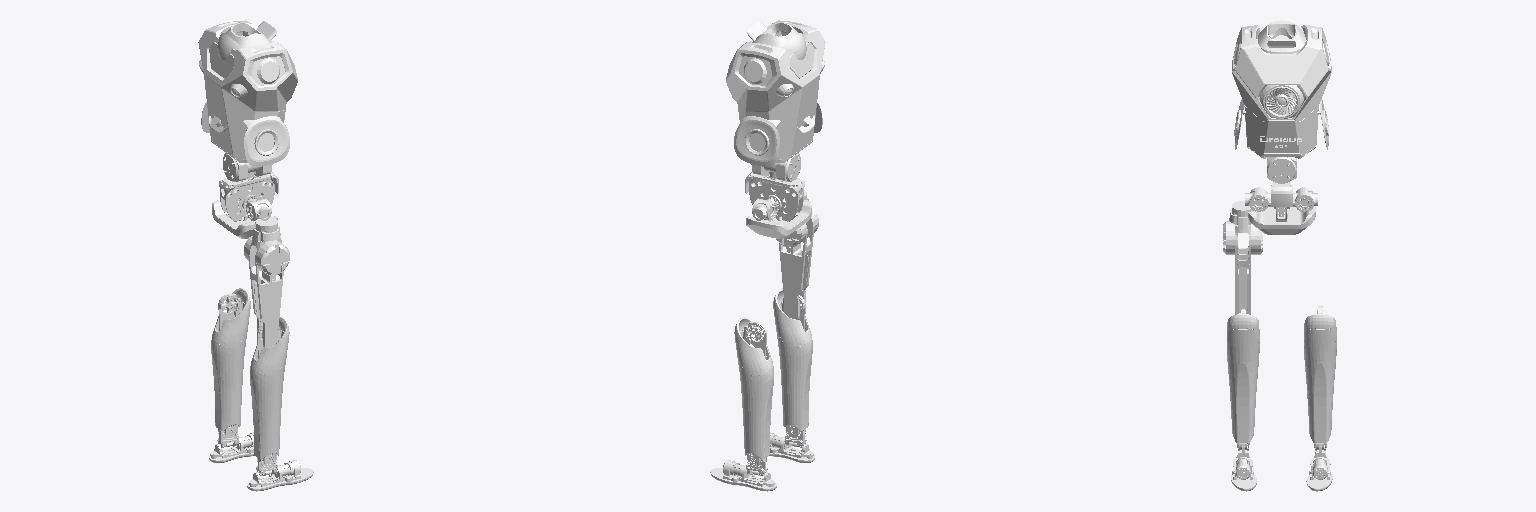
--- What the picture shows (computed from the rendered views, not written in the file) ---
3 views of the same robot in one strip: view 1: azimuth 30°, elevation 25°; view 2: azimuth 150°, elevation 25°; view 3: azimuth 270°, elevation 25° (orthographic).
Robot: X3 — 16 links, 15 joints (14 revolute, 1 fixed); root link pelvis_link; default pose: every joint at zero.
Visible links, largest first — view 1: waist_roll_link, L_knee_pitch_link, R_knee_pitch_link, R_hip_yaw_link, torso_link, pelvis_link, R_ankle_roll_link, L_ankle_roll_link; view 2: waist_roll_link, L_knee_pitch_link, torso_link, R_knee_pitch_link, R_hip_yaw_link, pelvis_link, L_ankle_roll_link, R_ankle_roll_link; view 3: waist_roll_link, L_knee_pitch_link, R_knee_pitch_link, R_hip_yaw_link, torso_link, L_ankle_roll_link, pelvis_link, R_ankle_roll_link.
Link boxes in pixels (x1,y1,x2,y2): waist_roll_link: (198,20,297,181); L_knee_pitch_link: (211,288,250,437); R_knee_pitch_link: (250,317,289,465); R_hip_yaw_link: (244,217,289,348); torso_link: (201,21,289,238); pelvis_link: (219,172,278,221); R_ankle_roll_link: (247,460,313,491); L_ankle_roll_link: (209,432,254,462); waist_roll_link: (726,20,825,181); L_knee_pitch_link: (734,317,773,465); torso_link: (734,21,822,238); R_knee_pitch_link: (773,288,812,437); R_hip_yaw_link: (776,190,818,319); pelvis_link: (745,172,804,221); L_ankle_roll_link: (710,460,776,491); R_ankle_roll_link: (769,432,814,462); waist_roll_link: (1232,24,1331,183); L_knee_pitch_link: (1304,306,1336,447); R_knee_pitch_link: (1227,309,1259,447); R_hip_yaw_link: (1223,201,1262,314); torso_link: (1234,20,1328,234); L_ankle_roll_link: (1306,456,1332,491); pelvis_link: (1271,181,1292,221); R_ankle_roll_link: (1231,455,1256,491).
Bounding box of the posed robot: 0.2938 × 0.3549 × 1.52 m (x, y, z).
15 mesh visuals loaded from 16 distinct referenced files (15 binary STL); not drawn: 1 (reference not matched to a file when rendering).

The robot description file, URDF, robot "X3":
<?xml version="1.0" encoding="utf-8"?>
<!-- This URDF was automatically created by SolidWorks to URDF Exporter! Originally created by Stephen Brawner ([email redacted]) 
     Commit Version: 1.6.0-4-g7f85cfe  Build Version: 1.6.7995.38578
     For more information, please see http://wiki.ros.org/sw_urdf_exporter -->
<robot name="X3">

  <mujoco>
    <compiler meshdir="./meshes" discardvisual="false" />
  </mujoco>

<!--  <link name="world"></link>-->
<!--  <joint name="pelvis_link" type="floating">-->
<!--    <parent link="world" />-->
<!--    <child link="pelvis_link" />-->
<!--  </joint>-->

  <link name="pelvis_link">
    <inertial>
      <origin xyz="0.00109416 -0.00000107 0.07487269" rpy="0 0 0" />
      <mass value="2.4" />
      <inertia ixx="0.00976418" ixy="-0.00000142" ixz="0.00008830" iyy="0.01387419" iyz="-0.00000011" izz="0.01133333" />
    </inertial>
    <visual>
      <origin xyz="0 0 0" rpy="0 0 0" />
      <geometry>
        <mesh filename="meshes/pelvis_link.STL" />
      </geometry>
      <material name="">
        <color rgba="1 1 1 1" />
      </material>
    </visual>
    <collision>
      <origin xyz="0 0 0" rpy="0 0 0" />
      <geometry>
        <mesh filename="meshes/pelvis_link.STL" />
      </geometry>
    </collision>
  </link>
  <link name="L_hip_pitch_link">
    <inertial>
      <origin xyz="0.00016094 -0.03273290 0" rpy="0 0 0" />
      <mass value="0.35" />
      <inertia ixx="0.00019710" ixy="0.00000155" ixz="0.00000000" iyy="0.00020669" iyz="0.00000000" izz="0.00019524" />
    </inertial>
    <!-- <inertial>
      <origin xyz="0.00017084 0.03447827 0.00000000" rpy="0 0 0" />
      <mass value="0.35" />
      <inertia ixx="0.00013064" ixy="-0.00000125" ixz="0.00000000" iyy="0.00013663" iyz="0.0000000" izz="0.00012375" />
    </inertial> -->
    <visual>
      <origin xyz="0 0 0" rpy="0 0 0" />
      <geometry>
        <mesh filename="meshes/L_hip_pitch_link.STL" />
      </geometry>
      <material name="">
        <color rgba="1 1 1 0.3" />
      </material>
    </visual>
<!--    <collision>-->
<!--      <origin xyz="0 0 0" rpy="0 0 0" />-->
<!--      <geometry>-->
<!--        <mesh filename="meshes/L_hip_pitch_link.STL" />-->
<!--      </geometry>-->
<!--    </collision>-->
  </link>
  <joint name="L_hip_pitch" type="revolute">
    <origin xyz="0 0.0310000000000002 0.0524750000000002" rpy="0 0 0" />
    <parent link="pelvis_link" />
    <child link="L_hip_pitch_link" />
    <axis xyz="0 -1 0" />
    <limit lower="-0.8727" upper="1.7453" effort="72" velocity="117.5" />
  </joint>
  <link name="L_hip_roll_link">
    <inertial>
      <origin xyz="-0.00005984 0.02187380 -0.01524731" rpy="0 0 0" />
      <mass value="3.2" />
      <inertia ixx="0.01134266" ixy="0.00000002" ixz="-0.00000053" iyy="0.01319216" iyz="-0.00106488" izz="0.01289784" />
    </inertial>
    <!-- <inertial>
      <origin xyz="-0.00002623 0.01031524 -0.00798319" rpy="0 0 0" />
      <mass value="3.2" />
      <inertia ixx="0.00546959" ixy="-0.00000076" ixz="0.00000118" iyy="0.00856984" iyz="-0.00068699" izz="0.00864802" />
    </inertial> -->
    <visual>
      <origin xyz="0 0 0" rpy="0 0 0" />
      <geometry>
        <mesh filename="meshes/L_hip_roll_link.STL" />
      </geometry>
      <material name="">
        <color rgba="1 1 1 0.3" />
      </material>
    </visual>
<!--    <collision>-->
<!--      <origin xyz="0 0 0" rpy="0 0 0" />-->
<!--      <geometry>-->
<!--        <mesh filename="meshes/L_hip_roll_link.STL" />-->
<!--      </geometry>-->
<!--    </collision>-->
  </link>
  <joint name="L_hip_roll" type="revolute">
    <origin xyz="0 0.04 0" rpy="0 0 0" />
    <parent link="L_hip_pitch_link" />
    <child link="L_hip_roll_link" />
    <axis xyz="1 0 0" />
    <limit lower="-0.1309" upper="1.11" effort="36" velocity="235" />
  </joint>
  <link name="L_hip_yaw_link">
    <inertial>
      <origin xyz="0.00631653 -0.00009549 -0.194109380" rpy="0 0 0" />
      <mass value="1.7" />
      <inertia ixx="0.01812833" ixy="0.00000394" ixz="-0.00119475" iyy="0.01848437" iyz="-0.00002187" izz="0.00451549" />
    </inertial>
    <!-- <inertial>
      <origin xyz="0.00078350 0.00901955 -0.13406405" rpy="0 0 0" />
      <mass value="1.7" />
      <inertia ixx="0.15106253" ixy="-0.00005461" ixz="-0.00051129" iyy="0.14988653" iyz="0.01183643" izz="0.01608968" />
    </inertial> -->
    <visual>
      <origin xyz="0 0 0" rpy="0 0 0" />
      <geometry>
        <mesh filename="meshes/L_hip_yaw_link.STL" />
      </geometry>
      <material name="">
        <color rgba="1 1 1 0.3" />
      </material>
    </visual>
    <collision>
      <origin xyz="0 0 0" rpy="0 0 0" />
      <geometry>
        <mesh filename="meshes/L_hip_yaw_link.STL" />
      </geometry>
    </collision>
  </link>
  <joint name="L_hip_yaw" type="revolute">
    <origin xyz="0 0.049 -0.043" rpy="0 0 0" />
    <parent link="L_hip_roll_link" />
    <child link="L_hip_yaw_link" />
    <axis xyz="0 0 1" />
    <limit lower="-0.7854" upper="0.7854" effort="24" velocity="37" />
  </joint>
  <link name="L_knee_pitch_link">
    <inertial>
      <origin xyz="0.00681540 0.00002147 -0.18284680" rpy="0 0 0" />
      <mass value="1.2" />
      <inertia ixx="0.01455513" ixy="-0.00000021" ixz="0.00105053" iyy="0.01462788" iyz="-0.00000523" izz="0.00181891" />
    </inertial>
    <!-- <inertial>
      <origin xyz="0.00542764 0 -0.17994317" rpy="0 0 0" />
      <mass value="1.2" />
      <inertia ixx="0.10387623" ixy="0.00000003" ixz="0.00479679" iyy="0.10500164" iyz="-0.00001009" izz="0.00696386" />
    </inertial> -->
    <visual>
      <origin xyz="0 0 0" rpy="0 0 0" />
      <geometry>
        <mesh filename="meshes/L_knee_pitch_link.STL" />
      </geometry>
      <material name="">
        <color rgba="1 1 1 0.3" />
      </material>
    </visual>
    <collision>
      <origin xyz="0 0 0" rpy="0 0 0" />
      <geometry>
        <mesh filename="meshes/L_knee_pitch_link.STL" />
      </geometry>
    </collision>
  </link>
  <joint name="L_knee_pitch" type="revolute">
    <origin xyz="0 0 -0.357" rpy="0 0 0" />
    <parent link="L_hip_yaw_link" />
    <child link="L_knee_pitch_link" />
    <axis xyz="0 -1 0" />
    <limit lower="-2.3562" upper="0" effort="93.6" velocity="90" />
  </joint>
  <link name="L_ankle_pitch_link">
    <inertial>
      <origin xyz="-0.00032306 -0.00121184 -0.02213432" rpy="0 0 0" />
      <mass value="0.2" />
      <inertia ixx="0.00011212" ixy="0.00000001" ixz="0.00000110" iyy="0.00016402" iyz="-0.00000380" izz="0.00008321" />
    </inertial>
    <!-- <inertial>
      <origin xyz="-0.00099005 0.00104741 -0.02529408" rpy="0 0 0" />
      <mass value="0.2" />
      <inertia ixx="0.00011552" ixy="0.00000010" ixz="0.00000372" iyy="0.00016201" iyz="0.000000405" izz="0.00007952" />
    </inertial> -->
    <visual>
      <origin xyz="0 0 0" rpy="0 0 0" />
      <geometry>
        <mesh filename="meshes/L_ankle_pitch_link.STL" />
      </geometry>
      <material name="">
        <color rgba="1 1 1 0.3" />
      </material>
    </visual>
    <collision>
      <origin xyz="0 0 0" rpy="0 0 0" />
      <geometry>
        <mesh filename="meshes/L_ankle_pitch_link.STL" />
      </geometry>
    </collision>
  </link>
  <joint name="L_ankle_pitch" type="revolute">
    <origin xyz="0 0 -0.43" rpy="0 0 0" />
    <parent link="L_knee_pitch_link" />
    <child link="L_ankle_pitch_link" />
    <axis xyz="0 -1 0" />
    <limit lower="-1.309" upper="1.309" effort="64.8" velocity="130" />
  </joint>
  <link name="L_ankle_roll_link">
    <inertial>
      <origin xyz="0.0511098207690309 2.27969964033264E-05 -0.029278150161492" rpy="0 0 0" />
      <mass value="0.6" />
      <inertia ixx="0.000357089092153518" ixy="-1.47307290241483E-08" ixz="2.90073852989151E-07" iyy="0.0032819389901749" iyz="-2.24180302072437E-07" izz="0.00355222542672962" />
    </inertial>
    <!-- <inertial>
      <origin xyz="0.04449898 -0.00002507 -0.00536528" rpy="0 0 0" />
      <mass value="0.6" />
      <inertia ixx="0.00079075" ixy="-0.00003439" ixz="-0.00019963" iyy="0.00331588" iyz="0.00002773" izz="0.00300999" />
    </inertial> -->
    <visual>
      <origin xyz="0 0 0" rpy="0 0 0" />
      <geometry>
        <mesh filename="meshes/L_ankle_roll_link.STL" />
      </geometry>
      <material name="">
        <color rgba="1 1 1 1" />
      </material>
    </visual>
<!--    <collision>-->
<!--      <origin xyz="0 0 0" rpy="0 0 0" />-->
<!--      <geometry>-->
<!--        <mesh filename="meshes/L_ankle_roll_link.STL" />-->
<!--      </geometry>-->
<!--    </collision>-->
    <collision>
      <origin xyz="-0.09 -0.0 -0.0385" rpy="0 0 0"/>
      <geometry>
        <sphere radius="0.005"/>
      </geometry>
    </collision>
    <collision>
      <origin xyz="0.18 -0.0 -0.0385" rpy="0 0 0"/>
      <geometry>
        <sphere radius="0.005"/>
      </geometry>
    </collision>
    <collision>
      <origin xyz="0.09 -0.045 -0.0385" rpy="0 0 0"/>
      <geometry>
        <sphere radius="0.005"/>
      </geometry>
    </collision>
    <collision>
      <origin xyz="0.09 0.045 -0.0385" rpy="0 0 0"/>
      <geometry>
        <sphere radius="0.005"/>
      </geometry>
    </collision>
    <collision>
      <origin xyz="0.0 0.033 -0.0385" rpy="0 0 0"/>
      <geometry>
        <sphere radius="0.005"/>
      </geometry>
    </collision>
    <collision>
      <origin xyz="0.0 -0.033 -0.0385" rpy="0 0 0"/>
      <geometry>
        <sphere radius="0.005"/>
      </geometry>
    </collision>
  </link>
  <joint name="L_ankle_roll" type="revolute">
    <origin xyz="0 0 -0.058" rpy="0 0 0" />
    <parent link="L_ankle_pitch_link" />
    <child link="L_ankle_roll_link" />
    <axis xyz="1 0 0" />
    <limit lower="-0.5236" upper="0.5236" effort="7.7" velocity="20" />
  </joint>
  <link name="R_hip_pitch_link">
    <inertial>
      <origin xyz="0.00016094 -0.03273290 0" rpy="0 0 0" />
      <mass value="0.35" />
      <inertia ixx="0.00019710" ixy="0.00000155" ixz="0.00000000" iyy="0.00020669" iyz="0.00000000" izz="0.00019524" />
    </inertial>
    <visual>
      <origin xyz="0 0 0" rpy="0 0 0" />
      <geometry>
        <mesh filename="meshes/R_hip_pitch_link.STL" />
      </geometry>
      <material name="">
        <color rgba="1 1 1 1" />
      </material>
    </visual>
<!--    <collision>-->
<!--      <origin xyz="0 0 0" rpy="0 0 0" />-->
<!--      <geometry>-->
<!--        <mesh filename="meshes/R_hip_pitch_link.STL" />-->
<!--      </geometry>-->
<!--    </collision>-->
  </link>
  <joint name="R_hip_pitch" type="revolute">
    <origin xyz="0 -0.031 0.052475" rpy="0 0 0" />
    <parent link="pelvis_link" />
    <child link="R_hip_pitch_link" />
    <axis xyz="0 -1 0" />
    <limit lower="-0.8727" upper="1.7453" effort="72" velocity="117.5" />
  </joint>
  <link name="R_hip_roll_link">
    <inertial>
      <origin xyz="-0.00005984 -0.02187380 -0.01524731" rpy="0 0 0" />
      <mass value="3.2" />
      <inertia ixx="0.01134266" ixy="-0.00000002" ixz="0.00000053" iyy="0.01319216" iyz="0.00106488" izz="0.01289784" />
    </inertial>
    <visual>
      <origin xyz="0 0 0" rpy="0 0 0" />
      <geometry>
        <mesh filename="meshes/R_hip_roll_link.STL" />
      </geometry>
      <material name="">
        <color rgba="1 1 1 0.3" />
      </material>
    </visual>
<!--    <collision>-->
<!--      <origin xyz="0 0 0" rpy="0 0 0" />-->
<!--      <geometry>-->
<!--        <mesh filename="meshes/R_hip_roll_link.STL" />-->
<!--      </geometry>-->
<!--    </collision>-->
  </link>
  <joint name="R_hip_roll" type="revolute">
    <origin xyz="0 -0.04 0" rpy="0 0 0" />
    <parent link="R_hip_pitch_link" />
    <child link="R_hip_roll_link" />
    <axis xyz="-1 0 0" />
    <limit lower="-0.1309" upper="1.11" effort="36" velocity="235" />
  </joint>
  <link name="R_hip_yaw_link">
    <inertial>
      <origin xyz="0.00631653 -0.00009549 -0.194109380" rpy="0 0 0" />
      <mass value="1.7" />
      <inertia ixx="0.01812833" ixy="0.00000394" ixz="-0.00119475" iyy="0.01848437" iyz="-0.00002187" izz="0.00451549" />
    </inertial>
    <visual>
      <origin xyz="0 0 0" rpy="0 0 0" />
      <geometry>
        <mesh filename="meshes/R_hip_yaw_link.STL" />
      </geometry>
      <material name="">
        <color rgba="1 1 1 0.3" />
      </material>
    </visual>
    <collision>
      <origin xyz="0 0 0" rpy="0 0 0" />
      <geometry>
        <mesh filename="meshes/R_hip_yaw_link.STL" />
      </geometry>
    </collision>
  </link>
  <joint name="R_hip_yaw" type="revolute">
    <origin xyz="0 -0.049 -0.043" rpy="0 0 0" />
    <parent link="R_hip_roll_link" />
    <child link="R_hip_yaw_link" />
    <axis xyz="0 0 -1" />
    <limit lower="-0.7854" upper="0.7854" effort="24" velocity="37" />
  </joint>
  <link name="R_knee_pitch_link">
    <inertial>
      <origin xyz="0.00681540 0.00002147 -0.18284680" rpy="0 0 0" />
      <mass value="1.2" />
      <inertia ixx="0.01455513" ixy="-0.00000021" ixz="0.00105053" iyy="0.01462788" iyz="-0.00000523" izz="0.00181891" />
    </inertial>
    <visual>
      <origin xyz="0 0 0" rpy="0 0 0" />
      <geometry>
        <mesh filename="meshes/R_knee_pitch_link.STL" />
      </geometry>
      <material name="">
        <color rgba="1 1 1 0.3" />
      </material>
    </visual>
    <collision>
      <origin xyz="0 0 0" rpy="0 0 0" />
      <geometry>
        <mesh filename="meshes/R_knee_pitch_link.STL" />
      </geometry>
    </collision>
  </link>
  <joint name="R_knee_pitch" type="revolute">
    <origin xyz="0 0 -0.357" rpy="0 0 0" />
    <parent link="R_hip_yaw_link" />
    <child link="R_knee_pitch_link" />
    <axis xyz="0 -1 0" />
    <limit lower="-2.3562" upper="0" effort="93.6" velocity="90" />
  </joint>
  <link name="R_ankle_pitch_link">
     <inertial>
      <origin xyz="-0.00032306 -0.00121184 -0.02213432" rpy="0 0 0" />
      <mass value="0.2" />
      <inertia ixx="0.00011212" ixy="0.00000001" ixz="0.00000110" iyy="0.00016402" iyz="-0.00000380" izz="0.00008321" />
    </inertial>
    <visual>
      <origin xyz="0 0 0" rpy="0 0 0" />
      <geometry>
        <mesh filename="meshes/R_ankle_pitch_link.STL" />
      </geometry>
      <material name="">
        <color rgba="1 1 1 0.3" />
      </material>
    </visual>
    <collision>
      <origin xyz="0 0 0" rpy="0 0 0" />
      <geometry>
        <mesh filename="meshes/R_ankle_pitch_link.STL" />
      </geometry>
    </collision>
  </link>
  <joint name="R_ankle_pitch" type="revolute">
    <origin xyz="0 0 -0.43" rpy="0 0 0" />
    <parent link="R_knee_pitch_link" />
    <child link="R_ankle_pitch_link" />
    <axis xyz="0 -1 0" />
    <limit lower="-1.309" upper="1.309" effort="64.8" velocity="130" />
  </joint>
  <link name="R_ankle_roll_link">
    <inertial>
      <origin xyz="0.0511098207690309 2.27969964033264E-05 -0.029278150161492" rpy="0 0 0" />
      <mass value="0.6" />
      <inertia ixx="0.000357089092153518" ixy="-1.47307290241483E-08" ixz="2.90073852989151E-07" iyy="0.0032819389901749" iyz="-2.24180302072437E-07" izz="0.00355222542672962" />
    </inertial>
    <!-- <inertial>
      <origin xyz="0.056799992621983 0.000901372325426295 -0.0207274451353632" rpy="0 0 0" />
      <mass value="0.6" />
      <inertia ixx="0.00031726" ixy="0.00004528" ixz="0.00005446" iyy="0.00199702" iyz="-0.00000729" izz="0.00200715" />
    </inertial> -->
    <visual>
      <origin xyz="0 0 0" rpy="0 0 0" />
      <geometry>
        <mesh filename="meshes/R_ankle_roll_link.STL" />
      </geometry>
      <material name="">
        <color rgba="1 1 1 1" />
      </material>
    </visual>
<!--    <collision>-->
<!--      <origin xyz="0 0 0" rpy="0 0 0" />-->
<!--      <geometry>-->
<!--        <mesh filename="meshes/R_ankle_roll_link.STL" />-->
<!--      </geometry>-->
<!--    </collision>-->
    <collision>
      <origin xyz="-0.09 -0.0 -0.0385" rpy="0 0 0"/>
      <geometry>
        <sphere radius="0.005"/>
      </geometry>
    </collision>
    <collision>
      <origin xyz="0.18 0.0 -0.0385" rpy="0 0 0"/>
      <geometry>
        <sphere radius="0.005"/>
      </geometry>
    </collision>
    <collision>
      <origin xyz="0.09 -0.045 -0.0385" rpy="0 0 0"/>
      <geometry>
        <sphere radius="0.005"/>
      </geometry>
    </collision>
    <collision>
      <origin xyz="0.09 0.045 -0.0385" rpy="0 0 0"/>
      <geometry>
        <sphere radius="0.005"/>
      </geometry>
    </collision>
    <collision>
      <origin xyz="0.0 0.033 -0.0385" rpy="0 0 0"/>
      <geometry>
        <sphere radius="0.005"/>
      </geometry>
    </collision>
    <collision>
      <origin xyz="0.0 -0.033 -0.0385" rpy="0 0 0"/>
      <geometry>
        <sphere radius="0.005"/>
      </geometry>
    </collision>
  </link>
  <joint name="R_ankle_roll" type="revolute">
    <origin xyz="0 0 -0.058" rpy="0 0 0" />
    <parent link="R_ankle_pitch_link" />
    <child link="R_ankle_roll_link" />
    <axis xyz="-1 0 0" />
    <limit lower="-0.5236" upper="0.5236" effort="7.7" velocity="20" />
  </joint>
  <link name="waist_yaw_link">
    <inertial>
      <origin xyz="0.00017084 0 0.03447827" rpy="0 0 0" />
      <mass value="0.3" />
      <inertia ixx="0.00013064" ixy="0.00000000" ixz="-0.00000125" iyy="0.00012375" iyz="0.000000000" izz="0.00013663" />
    </inertial>
    <visual>
      <origin xyz="0 0 0" rpy="0 0 0" />
      <geometry>
        <mesh filename="meshes/waist_yaw_link.STL" />
      </geometry>
      <material name="">
        <color rgba="1 1 1 1" />
      </material>
    </visual>
<!--    <collision>-->
<!--      <origin xyz="0 0 0" rpy="0 0 0" />-->
<!--      <geometry>-->
<!--        <mesh filename="meshes/waist_yaw_link.STL" />-->
<!--      </geometry>-->
<!--    </collision>-->
  </link>
  <joint name="waist_yaw" type="revolute">
    <origin xyz="0 0 0.14218" rpy="0 0 0" />
    <parent link="pelvis_link" />
    <child link="waist_yaw_link" />
    <axis xyz="0 0 1" />
    <limit lower="-0.7854" upper="0.7854" effort="72" velocity="117.5" />
  </joint>
  <link name="waist_roll_link">
    <inertial>
      <origin xyz="-0.00000186 0.00276070 0.00766477" rpy="0 0 0" />
      <mass value="2.1" />
      <inertia ixx="0.00260675" ixy="0.00000017" ixz="0.00000114" iyy="0.00514187" iyz="0.00009842" izz="0.00583275" />
    </inertial>
    <visual>
      <origin xyz="0 0 0" rpy="0 0 0" />
      <geometry>
        <mesh filename="meshes/waist_roll_link.STL" />
      </geometry>
      <material name="">
        <color rgba="1 1 1 1" />
      </material>
    </visual>
<!--    <collision>-->
<!--      <origin xyz="0 0 0" rpy="0 0 0" />-->
<!--      <geometry>-->
<!--        <mesh filename="meshes/waist_roll_link.STL" />-->
<!--      </geometry>-->
<!--    </collision>-->
  </link>
  <joint name="waist_roll" type="revolute">
    <origin xyz="0 0 0.04" rpy="0 0 0" />
    <parent link="waist_yaw_link" />
    <child link="waist_roll_link" />
    <axis xyz="1 0 0" />
    <limit lower="-0.4363" upper="0.4363" effort="36" velocity="235" />
  </joint>
  <link name="torso_link">
    <inertial>
      <origin xyz="0.01056948 -0.00010281 0.36681369" rpy="0 0 0" />
      <mass value="13.1" />
      <inertia ixx="0.28687328" ixy="0.00002550" ixz="0.00650498" iyy="0.25189104" iyz="-0.00001861" izz="0.09666201" />
    </inertial>
    <visual>
      <origin xyz="0 0 0" rpy="0 0 0" />
      <geometry>
        <mesh filename="meshes/torso_link.STL" />
      </geometry>
      <material name="">
        <color rgba="1 1 1 1" />
      </material>
    </visual>
    <collision>
      <origin xyz="0 0 0" rpy="0 0 0" />
      <geometry>
        <mesh filename="meshes/torso_link.STL" />
      </geometry>
    </collision>
  </link>
  <joint name="torso" type="fixed">
    <origin xyz="0 0 -0.182175" rpy="0 0 0" />
    <parent link="waist_roll_link" />
    <child link="torso_link" />
    <axis xyz="0 0 0" />
  </joint>
<!--  <link name="L_shoulder_pitch_link">-->
<!--    <inertial>-->
<!--      <origin xyz="0.00155687 0.04638013 0.00185796" rpy="0 0 0" />-->
<!--      <mass value="1.7" />-->
<!--      <inertia ixx="0.00258522" ixy="0.00003469" ixz="-0.00003704" iyy="0.00213303" iyz="-0.00003577" izz="0.00256597" />-->
<!--    </inertial>-->
<!--    <visual>-->
<!--      <origin xyz="0 0 0" rpy="0 0 0" />-->
<!--      <geometry>-->
<!--        <mesh filename="meshes/L_shoulder_pitch_link.STL" />-->
<!--      </geometry>-->
<!--      <material name="">-->
<!--        <color rgba="1 1 1 1" />-->
<!--      </material>-->
<!--    </visual>-->
<!--    <collision>-->
<!--      <origin xyz="0 0 0" rpy="0 0 0" />-->
<!--      <geometry>-->
<!--        <mesh filename="meshes/L_shoulder_pitch_link.STL" />-->
<!--      </geometry>-->
<!--    </collision>-->
<!--  </link>-->
<!--  <joint name="L_shoulder_pitch" type="revolute">-->
<!--    <origin xyz="-0.00322396709669087 0.1365 0.456175000000003" rpy="0 0 0" />-->
<!--    <parent link="torso_link" />-->
<!--    <child link="L_shoulder_pitch_link" />-->
<!--    <axis xyz="0 -1 0" />-->
<!--    <limit lower="-1.5708" upper="3.1416" effort="38" velocity="30" />-->
<!--  </joint>-->
<!--  <link name="L_shoulder_roll_link">-->
<!--    <inertial>-->
<!--      <origin xyz="-0.00169980 -0.00048152 -0.06490225" rpy="0 0 0" />-->
<!--      <mass value="1.2" />-->
<!--      <inertia ixx="0.00291644" ixy="0.00000633" ixz="-0.00004795" iyy="0.00349438" iyz="-0.00000912" izz="0.00222654" />-->
<!--    </inertial>-->
<!--    <visual>-->
<!--      <origin xyz="0 0 0" rpy="0 0 0" />-->
<!--      <geometry>-->
<!--        <mesh filename="meshes/L_shoulder_roll_link.STL" />-->
<!--      </geometry>-->
<!--      <material name="">-->
<!--        <color rgba="1 1 1 1" />-->
<!--      </material>-->
<!--    </visual>-->
<!--    <collision>-->
<!--      <origin xyz="0 0 0" rpy="0 0 0" />-->
<!--      <geometry>-->
<!--        <mesh filename="meshes/L_shoulder_roll_link.STL" />-->
<!--      </geometry>-->
<!--    </collision>-->
<!--  </link>-->
<!--  <joint name="L_shoulder_roll" type="revolute">-->
<!--    <origin xyz="0 0.0605 0" rpy="0 0 0" />-->
<!--    <parent link="L_shoulder_pitch_link" />-->
<!--    <child link="L_shoulder_roll_link" />-->
<!--    <axis xyz="1 0 0" />-->
<!--    <limit lower="-0.1745" upper="1.5708" effort="38" velocity="30" />-->
<!--  </joint>-->
<!--  <link name="L_shoulder_yaw_link">-->
<!--    <inertial>-->
<!--      <origin xyz="0.00017669 -0.00115174 -0.06619070" rpy="0 0 0" />-->
<!--      <mass value="1.1" />-->
<!--      <inertia ixx="0.00157106" ixy="0.00000587" ixz="-0.00000229" iyy="0.00143525" iyz="0.00002980" izz="0.00058878" />-->
<!--    </inertial>-->
<!--    <visual>-->
<!--      <origin xyz="0 0 0" rpy="0 0 0" />-->
<!--      <geometry>-->
<!--        <mesh filename="meshes/L_shoulder_yaw_link.STL" />-->
<!--      </geometry>-->
<!--      <material name="">-->
<!--        <color rgba="1 1 1 1" />-->
<!--      </material>-->
<!--    </visual>-->
<!--    <collision>-->
<!--      <origin xyz="0 0 0" rpy="0 0 0" />-->
<!--      <geometry>-->
<!--        <mesh filename="meshes/L_shoulder_yaw_link.STL" />-->
<!--      </geometry>-->
<!--    </collision>-->
<!--  </link>-->
<!--  <joint name="L_shoulder_yaw" type="revolute">-->
<!--    <origin xyz="0.000149999998599098 0 -0.131486760581595" rpy="0 0 0" />-->
<!--    <parent link="L_shoulder_roll_link" />-->
<!--    <child link="L_shoulder_yaw_link" />-->
<!--    <axis xyz="0 0 1" />-->
<!--    <limit lower="-2.618" upper="2.618" effort="14" velocity="30" />-->
<!--  </joint>-->
<!--  <link name="L_elbow_pitch_link">-->
<!--    <inertial>-->
<!--      <origin xyz="0.00005060 0.00061689 -0.07522012" rpy="0 0 0" />-->
<!--      <mass value="0.56" />-->
<!--      <inertia ixx="0.00048950" ixy="-0.00000008" ixz="0.00000012" iyy="0.00043439" iyz="0.00002490" izz="0.00033574" />-->
<!--    </inertial>-->
<!--    <visual>-->
<!--      <origin xyz="0 0 0" rpy="0 0 0" />-->
<!--      <geometry>-->
<!--        <mesh filename="meshes/L_elbow_pitch_link.STL" />-->
<!--      </geometry>-->
<!--      <material name="">-->
<!--        <color rgba="1 1 1 1" />-->
<!--      </material>-->
<!--    </visual>-->
<!--    <collision>-->
<!--      <origin xyz="0 0 0" rpy="0 0 0" />-->
<!--      <geometry>-->
<!--        <mesh filename="meshes/L_elbow_pitch_link.STL" />-->
<!--      </geometry>-->
<!--    </collision>-->
<!--  </link>-->
<!--  <joint name="L_elbow_pitch" type="revolute">-->
<!--    <origin xyz="0 0 -0.0839999999999311" rpy="0 0 0" />-->
<!--    <parent link="L_shoulder_yaw_link" />-->
<!--    <child link="L_elbow_pitch_link" />-->
<!--    <axis xyz="0 -1 0" />-->
<!--    <limit lower="0" upper="2.4435" effort="6.8" velocity="30" />-->
<!--  </joint>-->
<!--  <link name="L_elbow_yaw_link">-->
<!--    <inertial>-->
<!--      <origin xyz="-0.00035245 0.00292780 -0.04716143" rpy="0 0 0" />-->
<!--      <mass value="0.6" />-->
<!--      <inertia ixx="0.000613115" ixy="0.00000024" ixz="0.00000720" iyy="0.00052126" iyz="-0.00002591" izz="0.00028134" />-->
<!--    </inertial>-->
<!--    <visual>-->
<!--      <origin xyz="0 0 0" rpy="0 0 0" />-->
<!--      <geometry>-->
<!--        <mesh filename="meshes/L_elbow_yaw_link.STL" />-->
<!--      </geometry>-->
<!--      <material name="">-->
<!--        <color rgba="1 1 1 1" />-->
<!--      </material>-->
<!--    </visual>-->
<!--    <collision>-->
<!--      <origin xyz="0 0 0" rpy="0 0 0" />-->
<!--      <geometry>-->
<!--        <mesh filename="meshes/L_elbow_yaw_link.STL" />-->
<!--      </geometry>-->
<!--    </collision>-->
<!--  </link>-->
<!--  <joint name="L_elbow_yaw" type="revolute">-->
<!--    <origin xyz="0 0 -0.1065" rpy="0 0 0" />-->
<!--    <parent link="L_elbow_pitch_link" />-->
<!--    <child link="L_elbow_yaw_link" />-->
<!--    <axis xyz="0 0 1" />-->
<!--    <limit lower="-2.4871" upper="2.4871" effort="6.8" velocity="30" />-->
<!--  </joint>-->
<!--  <link name="L_wrist_pitch_link">-->
<!--    <inertial>-->
<!--      <origin xyz="-0.00009697 0.00049094 -0.02740632" rpy="0 0 0" />-->
<!--      <mass value="0.32" />-->
<!--      <inertia ixx="0.00009734" ixy="0.00000013" ixz="-0.00000057" iyy="0.00011272" iyz="0.00000428" izz="0.00009965" />-->
<!--    </inertial>-->
<!--    <visual>-->
<!--      <origin xyz="0 0 0" rpy="0 0 0" />-->
<!--      <geometry>-->
<!--        <mesh filename="meshes/L_wrist_pitch_link.STL" />-->
<!--      </geometry>-->
<!--      <material name="">-->
<!--        <color rgba="1 1 1 1" />-->
<!--      </material>-->
<!--    </visual>-->
<!--    <collision>-->
<!--      <origin xyz="0 0 0" rpy="0 0 0" />-->
<!--      <geometry>-->
<!--        <mesh filename="meshes/L_wrist_pitch_link.STL" />-->
<!--      </geometry>-->
<!--    </collision>-->
<!--  </link>-->
<!--  <joint name="L_wrist_pitch" type="revolute">-->
<!--    <origin xyz="0 0 -0.1275" rpy="0 0 0" />-->
<!--    <parent link="L_elbow_yaw_link" />-->
<!--    <child link="L_wrist_pitch_link" />-->
<!--    <axis xyz="0 -1 0" />-->
<!--    <limit lower="-0.5236" upper="0.5236" effort="6.8" velocity="30" />-->
<!--  </joint>-->
<!--  <link name="L_wrist_roll_link">-->
<!--    <inertial>-->
<!--      <origin xyz="-0.00079831 0 -0.03020153" rpy="0 0 0" />-->
<!--      <mass value="0.1" />-->
<!--      <inertia ixx="0.00004686" ixy="0.00000000" ixz="-0.00000433" iyy="0.00006407" iyz="0.00000000" izz="0.00006937" />-->
<!--    </inertial>-->
<!--    <visual>-->
<!--      <origin xyz="0 0 0" rpy="0 0 0" />-->
<!--      <geometry>-->
<!--        <mesh filename="meshes/L_wrist_roll_link.STL" />-->
<!--      </geometry>-->
<!--      <material name="">-->
<!--        <color rgba="1 1 1 1" />-->
<!--      </material>-->
<!--    </visual>-->
<!--    <collision>-->
<!--      <origin xyz="0 0 0" rpy="0 0 0" />-->
<!--      <geometry>-->
<!--        <mesh filename="meshes/L_wrist_roll_link.STL" />-->
<!--      </geometry>-->
<!--    </collision>-->
<!--  </link>-->
<!--  <joint name="L_wrist_roll" type="revolute">-->
<!--    <origin xyz="0 0 -0.03" rpy="0 0 0" />-->
<!--    <parent link="L_wrist_pitch_link" />-->
<!--    <child link="L_wrist_roll_link" />-->
<!--    <axis xyz="1 0 0" />-->
<!--    <limit lower="-1.309" upper="1.309" effort="1.6" velocity="30" />-->
<!--  </joint>-->
<!--  <link name="R_shoulder_pitch_link">-->
<!--    <inertial>-->
<!--      <origin xyz="0.00142465 -0.04493410 0.00204687" rpy="0 0 0" />-->
<!--      <mass value="1.7" />-->
<!--      <inertia ixx="0.00269108" ixy="-0.00003482" ixz="-0.00004040" iyy="0.00221006" iyz="0.00003403" izz="0.00264938" />-->
<!--    </inertial>-->
<!--    <visual>-->
<!--      <origin xyz="0 0 0" rpy="0 0 0" />-->
<!--      <geometry>-->
<!--        <mesh filename="meshes/R_shoulder_pitch_link.STL" />-->
<!--      </geometry>-->
<!--      <material name="">-->
<!--        <color rgba="1 1 1 1" />-->
<!--      </material>-->
<!--    </visual>-->
<!--    <collision>-->
<!--      <origin xyz="0 0 0" rpy="0 0 0" />-->
<!--      <geometry>-->
<!--        <mesh filename="meshes/R_shoulder_pitch_link.STL" />-->
<!--      </geometry>-->
<!--    </collision>-->
<!--  </link>-->
<!--  <joint name="R_shoulder_pitch" type="revolute">-->
<!--    <origin xyz="-0.00322396709669087 -0.136499999999998 0.456174966779902" rpy="0 0 0" />-->
<!--    <parent link="torso_link" />-->
<!--    <child link="R_shoulder_pitch_link" />-->
<!--    <axis xyz="0 -1 0" />-->
<!--    <limit lower="-1.5708" upper="3.1416" effort="38" velocity="30" />-->
<!--  </joint>-->
<!--  <link name="R_shoulder_roll_link">-->
<!--    <inertial>-->
<!--      <origin xyz="-0.00169980 0.00048152 -0.06490225" rpy="0 0 0" />-->
<!--      <mass value="1.2" />-->
<!--      <inertia ixx="0.00291644" ixy="0.00000633" ixz="-0.00004795" iyy="0.00349438" iyz="-0.00000912" izz="0.00222654" />-->
<!--    </inertial>-->
<!--    <visual>-->
<!--      <origin xyz="0 0 0" rpy="0 0 0" />-->
<!--      <geometry>-->
<!--        <mesh filename="meshes/R_shoulder_roll_link.STL" />-->
<!--      </geometry>-->
<!--      <material name="">-->
<!--        <color rgba="1 1 1 1" />-->
<!--      </material>-->
<!--    </visual>-->
<!--    <collision>-->
<!--      <origin xyz="0 0 0" rpy="0 0 0" />-->
<!--      <geometry>-->
<!--        <mesh filename="meshes/R_shoulder_roll_link.STL" />-->
<!--      </geometry>-->
<!--    </collision>-->
<!--  </link>-->
<!--  <joint name="R_shoulder_roll" type="revolute">-->
<!--    <origin xyz="0 -0.0605 0" rpy="0 0 0" />-->
<!--    <parent link="R_shoulder_pitch_link" />-->
<!--    <child link="R_shoulder_roll_link" />-->
<!--    <axis xyz="-1 0 0" />-->
<!--    <limit lower="-0.1745" upper="1.5708" effort="38" velocity="30" />-->
<!--  </joint>-->
<!--  <link name="R_shoulder_yaw_link">-->
<!--    <inertial>-->
<!--      <origin xyz="0.00017669 0.00115174 -0.06619070" rpy="0 0 0" />-->
<!--      <mass value="1.1" />-->
<!--      <inertia ixx="0.00157106" ixy="-0.00000587" ixz="-0.00000229" iyy="0.00143525" iyz="-0.00002980" izz="0.00058878" />-->
<!--    </inertial>-->
<!--    <visual>-->
<!--      <origin xyz="0 0 0" rpy="0 0 0" />-->
<!--      <geometry>-->
<!--        <mesh filename="meshes/R_shoulder_yaw_link.STL" />-->
<!--      </geometry>-->
<!--      <material name="">-->
<!--        <color rgba="1 1 1 1" />-->
<!--      </material>-->
<!--    </visual>-->
<!--    <collision>-->
<!--      <origin xyz="0 0 0" rpy="0 0 0" />-->
<!--      <geometry>-->
<!--        <mesh filename="meshes/R_shoulder_yaw_link.STL" />-->
<!--      </geometry>-->
<!--    </collision>-->
<!--  </link>-->
<!--  <joint name="R_shoulder_yaw" type="revolute">-->
<!--    <origin xyz="0.000149999998602883 0 -0.131486760581595" rpy="0 0 0" />-->
<!--    <parent link="R_shoulder_roll_link" />-->
<!--    <child link="R_shoulder_yaw_link" />-->
<!--    <axis xyz="0 0 -1" />-->
<!--    <limit lower="-2.618" upper="2.618" effort="14" velocity="30" />-->
<!--  </joint>-->
<!--  <link name="R_elbow_pitch_link">-->
<!--    <inertial>-->
<!--      <origin xyz="0.00005060 -0.00061689 -0.07522012" rpy="0 0 0" />-->
<!--      <mass value="0.56" />-->
<!--      <inertia ixx="0.00048950" ixy="0.00000008" ixz="0.00000012" iyy="0.00043439" iyz="-0.00002490" izz="0.00033574" />-->
<!--    </inertial>-->
<!--    <visual>-->
<!--      <origin xyz="0 0 0" rpy="0 0 0" />-->
<!--      <geometry>-->
<!--        <mesh filename="meshes/R_elbow_pitch_link.STL" />-->
<!--      </geometry>-->
<!--      <material name="">-->
<!--        <color rgba="1 1 1 1" />-->
<!--      </material>-->
<!--    </visual>-->
<!--    <collision>-->
<!--      <origin xyz="0 0 0" rpy="0 0 0" />-->
<!--      <geometry>-->
<!--        <mesh filename="meshes/R_elbow_pitch_link.STL" />-->
<!--      </geometry>-->
<!--    </collision>-->
<!--  </link>-->
<!--  <joint name="R_elbow_pitch" type="revolute">-->
<!--    <origin xyz="0 0 -0.0839999999999725" rpy="0 0 0" />-->
<!--    <parent link="R_shoulder_yaw_link" />-->
<!--    <child link="R_elbow_pitch_link" />-->
<!--    <axis xyz="0 -1 0" />-->
<!--    <limit lower="0" upper="2.4435" effort="6.8" velocity="30" />-->
<!--  </joint>-->
<!--  <link name="R_elbow_yaw_link">-->
<!--    <inertial>-->
<!--      <origin xyz="-0.00035245 -0.00292780 -0.04716143" rpy="0 0 0" />-->
<!--      <mass value="0.6" />-->
<!--      <inertia ixx="0.000613115" ixy="-0.00000024" ixz="0.00000720" iyy="0.00052126" iyz="0.00002591" izz="0.00028134" />-->
<!--    </inertial>-->
<!--    <visual>-->
<!--      <origin xyz="0 0 0" rpy="0 0 0" />-->
<!--      <geometry>-->
<!--        <mesh filename="meshes/R_elbow_yaw_link.STL" />-->
<!--      </geometry>-->
<!--      <material name="">-->
<!--        <color rgba="1 1 1 1" />-->
<!--      </material>-->
<!--    </visual>-->
<!--    <collision>-->
<!--      <origin xyz="0 0 0" rpy="0 0 0" />-->
<!--      <geometry>-->
<!--        <mesh filename="meshes/R_elbow_yaw_link.STL" />-->
<!--      </geometry>-->
<!--    </collision>-->
<!--  </link>-->
<!--  <joint name="R_elbow_yaw" type="revolute">-->
<!--    <origin xyz="0 0 -0.1065" rpy="0 0 0" />-->
<!--    <parent link="R_elbow_pitch_link" />-->
<!--    <child link="R_elbow_yaw_link" />-->
<!--    <axis xyz="0 0 -1" />-->
<!--    <limit lower="-2.4871" upper="2.4871" effort="6.8" velocity="30" />-->
<!--  </joint>-->
<!--  <link name="R_wrist_pitch_link">-->
<!--    <inertial>-->
<!--      <origin xyz="-0.00009697 -0.00049094 -0.02740632" rpy="0 0 0" />-->
<!--      <mass value="0.32" />-->
<!--      <inertia ixx="0.00009734" ixy="-0.00000013" ixz="-0.00000057" iyy="0.00011272" iyz="-0.00000428" izz="0.00009965" />-->
<!--    </inertial>-->
<!--    <visual>-->
<!--      <origin xyz="0 0 0" rpy="0 0 0" />-->
<!--      <geometry>-->
<!--        <mesh filename="meshes/R_wrist_pitch_link.STL" />-->
<!--      </geometry>-->
<!--      <material name="">-->
<!--        <color rgba="1 1 1 1" />-->
<!--      </material>-->
<!--    </visual>-->
<!--    <collision>-->
<!--      <origin xyz="0 0 0" rpy="0 0 0" />-->
<!--      <geometry>-->
<!--        <mesh filename="meshes/R_wrist_pitch_link.STL" />-->
<!--      </geometry>-->
<!--    </collision>-->
<!--  </link>-->
<!--  <joint name="R_wrist_pitch" type="revolute">-->
<!--    <origin xyz="0 0 -0.1275" rpy="0 0 0" />-->
<!--    <parent link="R_elbow_yaw_link" />-->
<!--    <child link="R_wrist_pitch_link" />-->
<!--    <axis xyz="0 -1 0" />-->
<!--    <limit lower="-0.5236" upper="0.5236" effort="6.8" velocity="30" />-->
<!--  </joint>-->
<!--  <link name="R_wrist_roll_link">-->
<!--    <inertial>-->
<!--      <origin xyz="-0.00079831 0 -0.03020153" rpy="0 0 0" />-->
<!--      <mass value="0.1" />-->
<!--      <inertia ixx="0.00004686" ixy="0.00000000" ixz="-0.00000433" iyy="0.00006407" iyz="0.00000000" izz="0.00006937" />-->
<!--    </inertial>-->
<!--    <visual>-->
<!--      <origin xyz="0 0 0" rpy="0 0 0" />-->
<!--      <geometry>-->
<!--        <mesh filename="meshes/R_wrist_roll_link.STL" />-->
<!--      </geometry>-->
<!--      <material name="">-->
<!--        <color rgba="1 1 1 1" />-->
<!--      </material>-->
<!--    </visual>-->
<!--    <collision>-->
<!--      <origin xyz="0 0 0" rpy="0 0 0" />-->
<!--      <geometry>-->
<!--        <mesh filename="meshes/R_wrist_roll_link.STL" />-->
<!--      </geometry>-->
<!--    </collision>-->
<!--  </link>-->
<!--  <joint name="R_wrist_roll" type="revolute">-->
<!--    <origin xyz="0 0 -0.0299999999999999" rpy="0 0 0" />-->
<!--    <parent link="R_wrist_pitch_link" />-->
<!--    <child link="R_wrist_roll_link" />-->
<!--    <axis xyz="-1 0 0" />-->
<!--    <limit lower="-1.309" upper="1.309" effort="1.6" velocity="30" />-->
<!--  </joint>-->
</robot>
